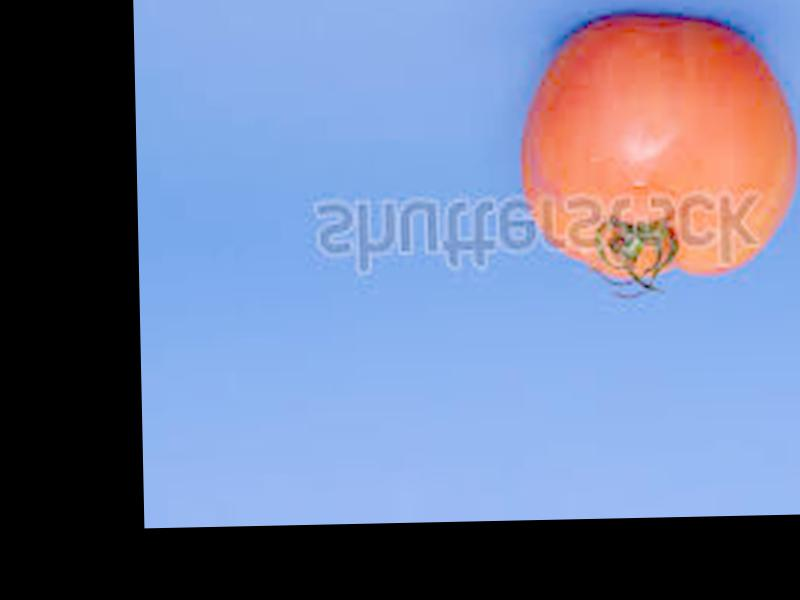Tomato: (522, 16, 800, 283)
